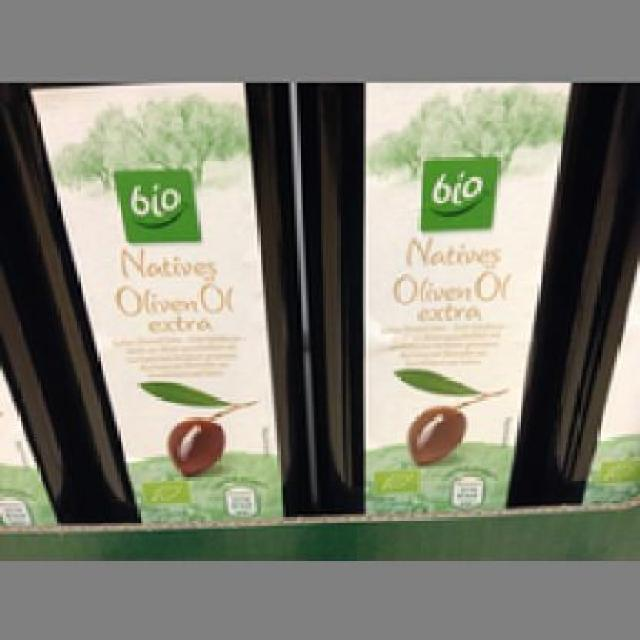Oil: (0, 82, 306, 515), (292, 80, 592, 509)
